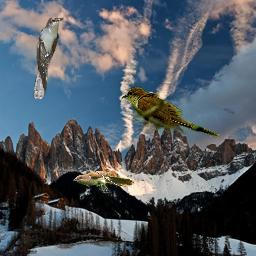Cuckoo: (121, 86, 220, 137), (33, 16, 64, 99), (73, 171, 135, 193)
